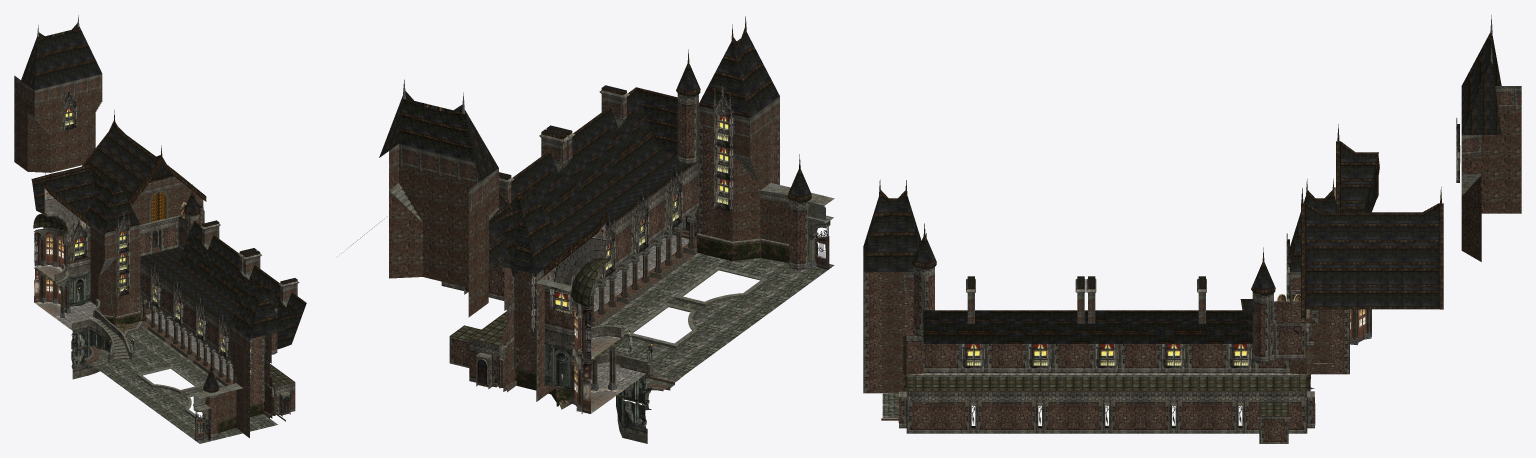
File: vorodorRuinLow.fbx
3 renders of one model, left to right at view 1: azimuth 30°, elevation 25°; view 2: azimuth 150°, elevation 25°; view 3: azimuth 270°, elevation 25°, orthographic. The views are drawn at different scales.
Visible parts, largest first — view 1: ruin, stolb; view 2: ruin, stolb; view 3: ruin.
Part boxes in pixels (box(x1,y1,x2,y2)): ruin: box(14, 15, 306, 443); stolb: box(141, 303, 276, 415); ruin: box(341, 16, 834, 443); stolb: box(498, 221, 695, 388); ruin: box(863, 15, 1521, 443).
Bounding box in the file's own units: 968 × 1783 × 2524.
Materials: 35 (26 with a texture image).
